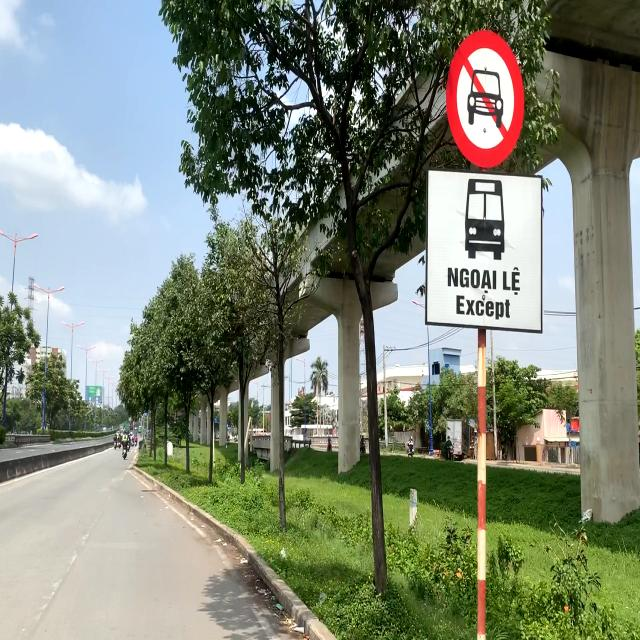P.103a: (448, 28, 524, 166)
